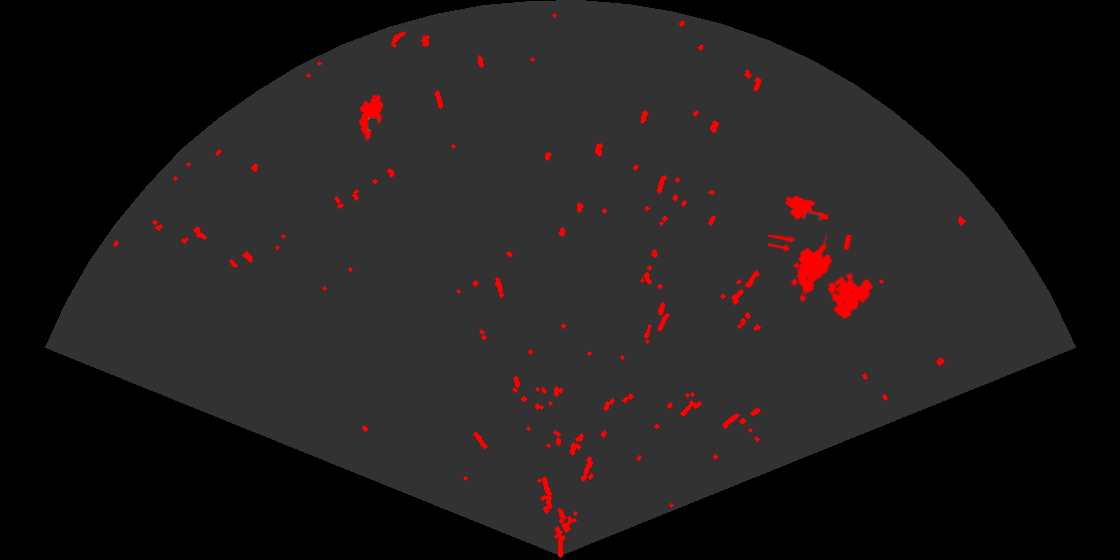AUV: (357, 93, 385, 142), (783, 194, 831, 222)
cage: (768, 235, 875, 320)
